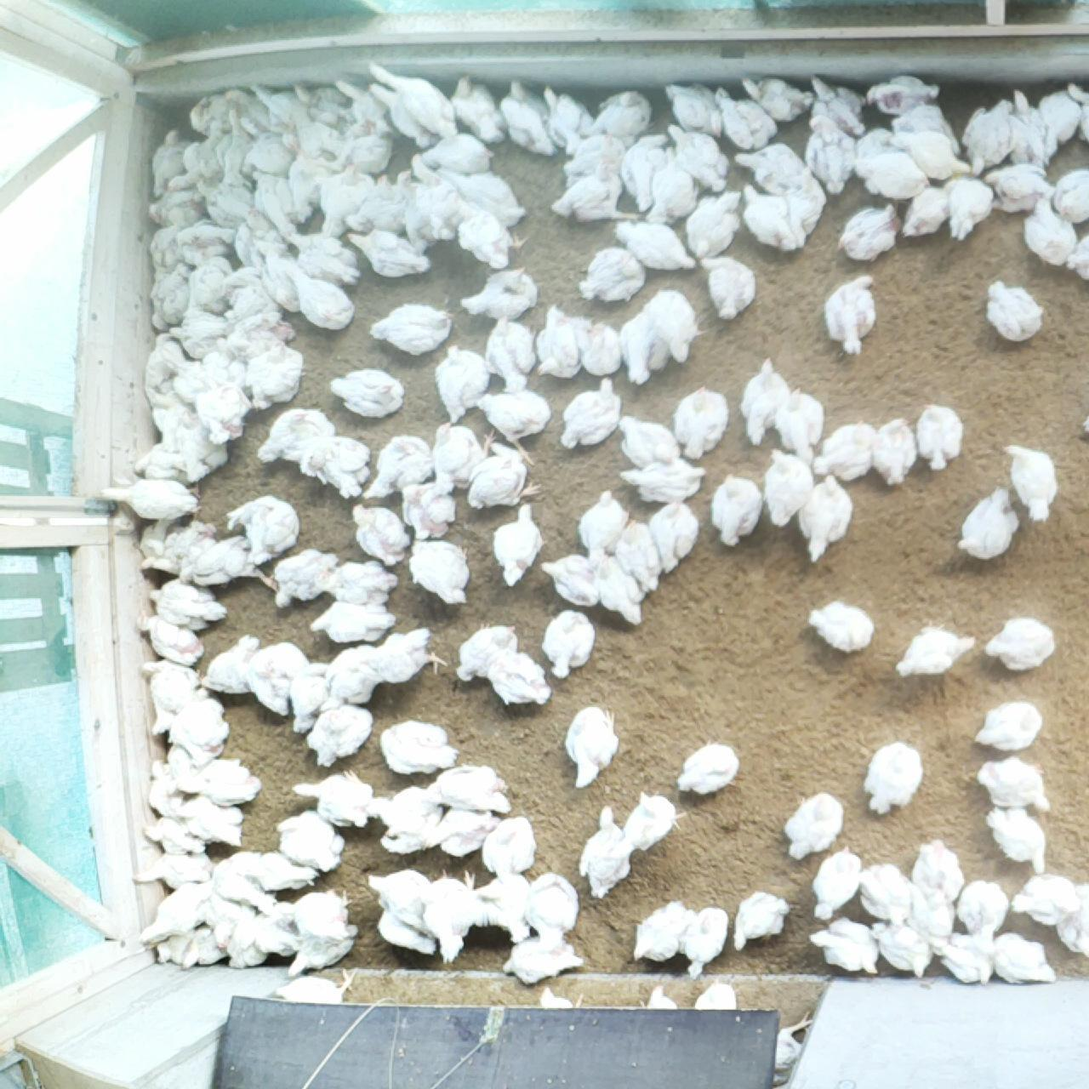chicken: (366, 57, 461, 135), (546, 154, 641, 227), (571, 800, 636, 900), (474, 385, 554, 466), (178, 535, 290, 592), (426, 754, 520, 818), (794, 469, 857, 564), (224, 492, 302, 568), (280, 255, 355, 332), (893, 616, 979, 683), (252, 400, 337, 467), (641, 279, 707, 365), (288, 765, 379, 827), (463, 439, 538, 514), (359, 432, 436, 505), (92, 475, 209, 523), (134, 876, 219, 942), (498, 76, 563, 162), (418, 865, 475, 963), (998, 437, 1060, 527), (561, 694, 618, 791), (452, 195, 527, 268), (734, 137, 828, 195), (366, 294, 455, 355), (781, 787, 850, 865), (973, 754, 1058, 817), (360, 619, 449, 679), (432, 420, 497, 502), (138, 657, 202, 740), (663, 118, 730, 197), (375, 713, 455, 779), (362, 867, 442, 933), (488, 497, 546, 588), (795, 106, 856, 192), (537, 603, 600, 686), (823, 272, 883, 359), (164, 691, 233, 766), (555, 376, 623, 452), (620, 453, 710, 510), (987, 925, 1061, 994), (612, 212, 693, 275), (248, 639, 310, 721), (434, 338, 493, 423), (738, 353, 790, 449), (846, 142, 932, 200), (861, 740, 924, 819), (981, 612, 1060, 675), (617, 784, 688, 854), (304, 702, 376, 771), (804, 68, 872, 141), (808, 913, 882, 980), (769, 381, 828, 465), (477, 646, 553, 711), (755, 446, 815, 528), (957, 485, 1019, 564), (518, 869, 580, 948), (292, 433, 375, 492), (367, 77, 432, 152), (453, 618, 523, 687), (408, 535, 475, 607), (319, 158, 380, 237), (710, 80, 776, 153), (274, 808, 348, 873), (671, 382, 731, 462), (967, 696, 1048, 755), (173, 753, 263, 806), (145, 576, 230, 632), (889, 123, 968, 183), (981, 154, 1056, 217), (808, 838, 862, 925), (460, 262, 541, 320), (465, 869, 533, 938), (681, 188, 745, 261), (315, 554, 401, 608), (193, 372, 252, 450), (437, 165, 522, 219), (630, 898, 697, 966), (811, 416, 877, 485), (263, 548, 336, 610), (283, 920, 359, 979), (708, 469, 762, 552), (984, 801, 1047, 872), (830, 202, 902, 264), (697, 254, 759, 326), (577, 246, 649, 308), (481, 309, 536, 390), (499, 934, 583, 987), (213, 311, 300, 362), (247, 337, 306, 412), (535, 303, 591, 382), (807, 594, 877, 657), (172, 790, 248, 848), (859, 65, 939, 120), (321, 365, 404, 418), (576, 486, 632, 564), (172, 408, 231, 482), (398, 472, 462, 540), (202, 630, 266, 698), (283, 887, 358, 945), (418, 803, 499, 856), (348, 503, 413, 569), (981, 277, 1045, 344), (1021, 195, 1078, 270), (650, 496, 702, 578), (645, 146, 698, 226), (1010, 869, 1080, 929), (963, 95, 1019, 170), (905, 881, 957, 961), (673, 735, 739, 798), (166, 122, 227, 190), (319, 641, 379, 710), (620, 307, 671, 388), (284, 223, 355, 281), (129, 606, 202, 662), (347, 224, 424, 277), (618, 125, 667, 208), (559, 129, 629, 187), (784, 158, 828, 250), (904, 833, 961, 904), (476, 810, 539, 874), (856, 854, 916, 921), (889, 98, 966, 150), (595, 551, 648, 626), (391, 168, 441, 247), (939, 172, 995, 242), (449, 70, 504, 141), (538, 550, 602, 611), (309, 601, 395, 646), (282, 658, 332, 735), (729, 894, 792, 954), (208, 846, 272, 905), (867, 413, 918, 487), (738, 71, 812, 122), (1006, 86, 1050, 171), (594, 83, 659, 140), (414, 156, 458, 240), (373, 904, 440, 959), (954, 876, 1008, 944), (663, 80, 723, 141), (614, 413, 683, 466), (739, 180, 790, 251), (541, 82, 594, 150), (271, 965, 363, 1004), (250, 173, 306, 237), (281, 152, 335, 218), (328, 121, 402, 169), (938, 927, 997, 987), (866, 923, 929, 979), (917, 399, 964, 474), (381, 779, 440, 838), (197, 175, 259, 228), (165, 521, 219, 581), (147, 927, 224, 968), (251, 848, 321, 893), (1038, 84, 1081, 157), (335, 75, 388, 133), (125, 847, 215, 881), (233, 207, 283, 267), (172, 215, 237, 261), (238, 130, 300, 178), (417, 130, 495, 168), (147, 128, 188, 199), (898, 181, 949, 238), (579, 319, 625, 379), (772, 1008, 815, 1072), (148, 271, 193, 332), (1054, 878, 1089, 956), (252, 902, 299, 959), (186, 256, 234, 311), (139, 386, 187, 441), (347, 171, 394, 227), (168, 305, 225, 351), (141, 337, 185, 396), (222, 267, 276, 315), (138, 815, 203, 854), (253, 82, 304, 130), (293, 80, 347, 125), (143, 187, 209, 223), (231, 904, 267, 969), (205, 891, 245, 949), (220, 112, 254, 180), (137, 522, 182, 573), (130, 437, 185, 478), (1050, 165, 1089, 221), (144, 755, 181, 813), (144, 213, 185, 263), (376, 818, 428, 856), (225, 90, 273, 129), (381, 168, 410, 232), (206, 335, 244, 382), (693, 975, 740, 1012), (164, 351, 204, 394), (293, 119, 336, 153), (634, 981, 679, 1013), (184, 94, 223, 130), (1070, 74, 1089, 144), (535, 983, 588, 1006), (1067, 229, 1089, 282), (851, 123, 893, 150)
